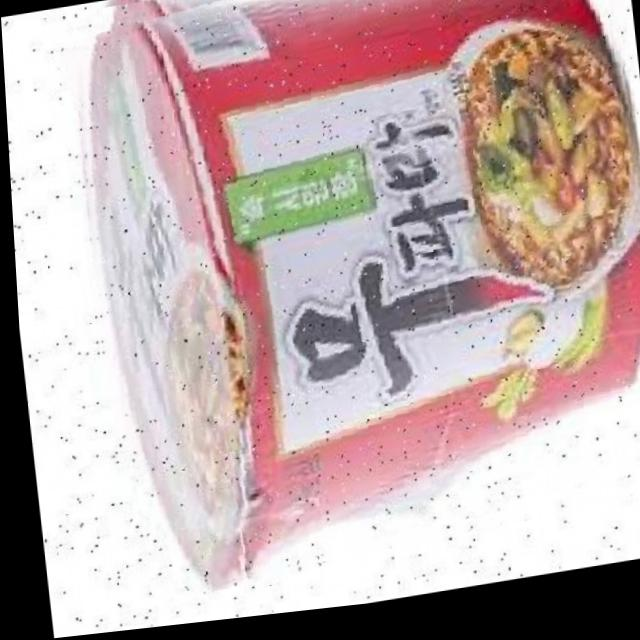Miscellaneous: (57, 0, 640, 605)
